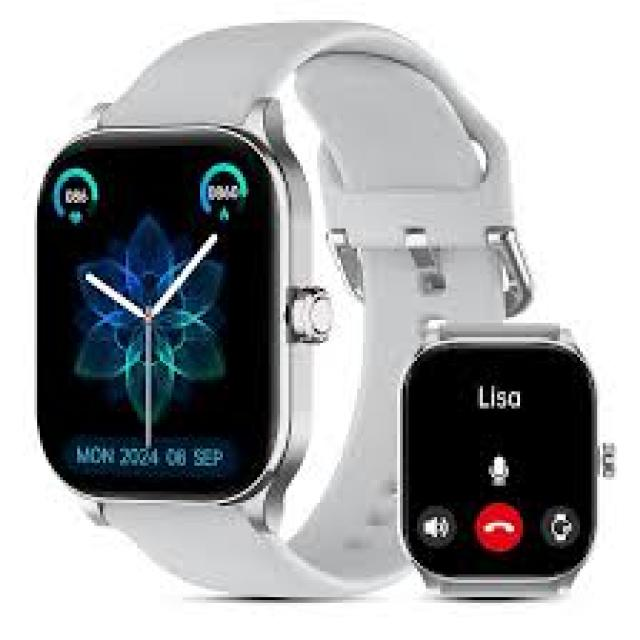objects: (37, 23, 509, 594), (397, 320, 597, 599)
